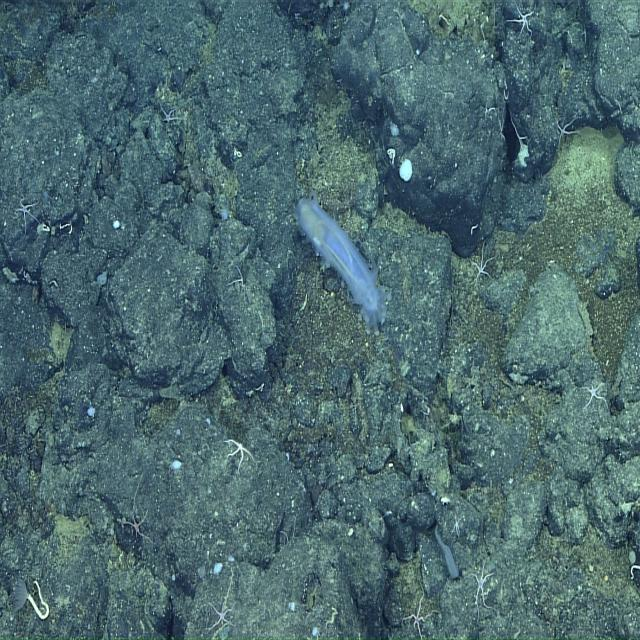Brittle Star: (400, 574, 438, 640), (468, 554, 499, 626), (121, 482, 154, 546), (218, 433, 261, 477), (504, 2, 540, 51), (200, 589, 236, 634), (552, 110, 580, 158), (471, 236, 496, 288), (154, 95, 186, 130), (15, 188, 38, 236)
